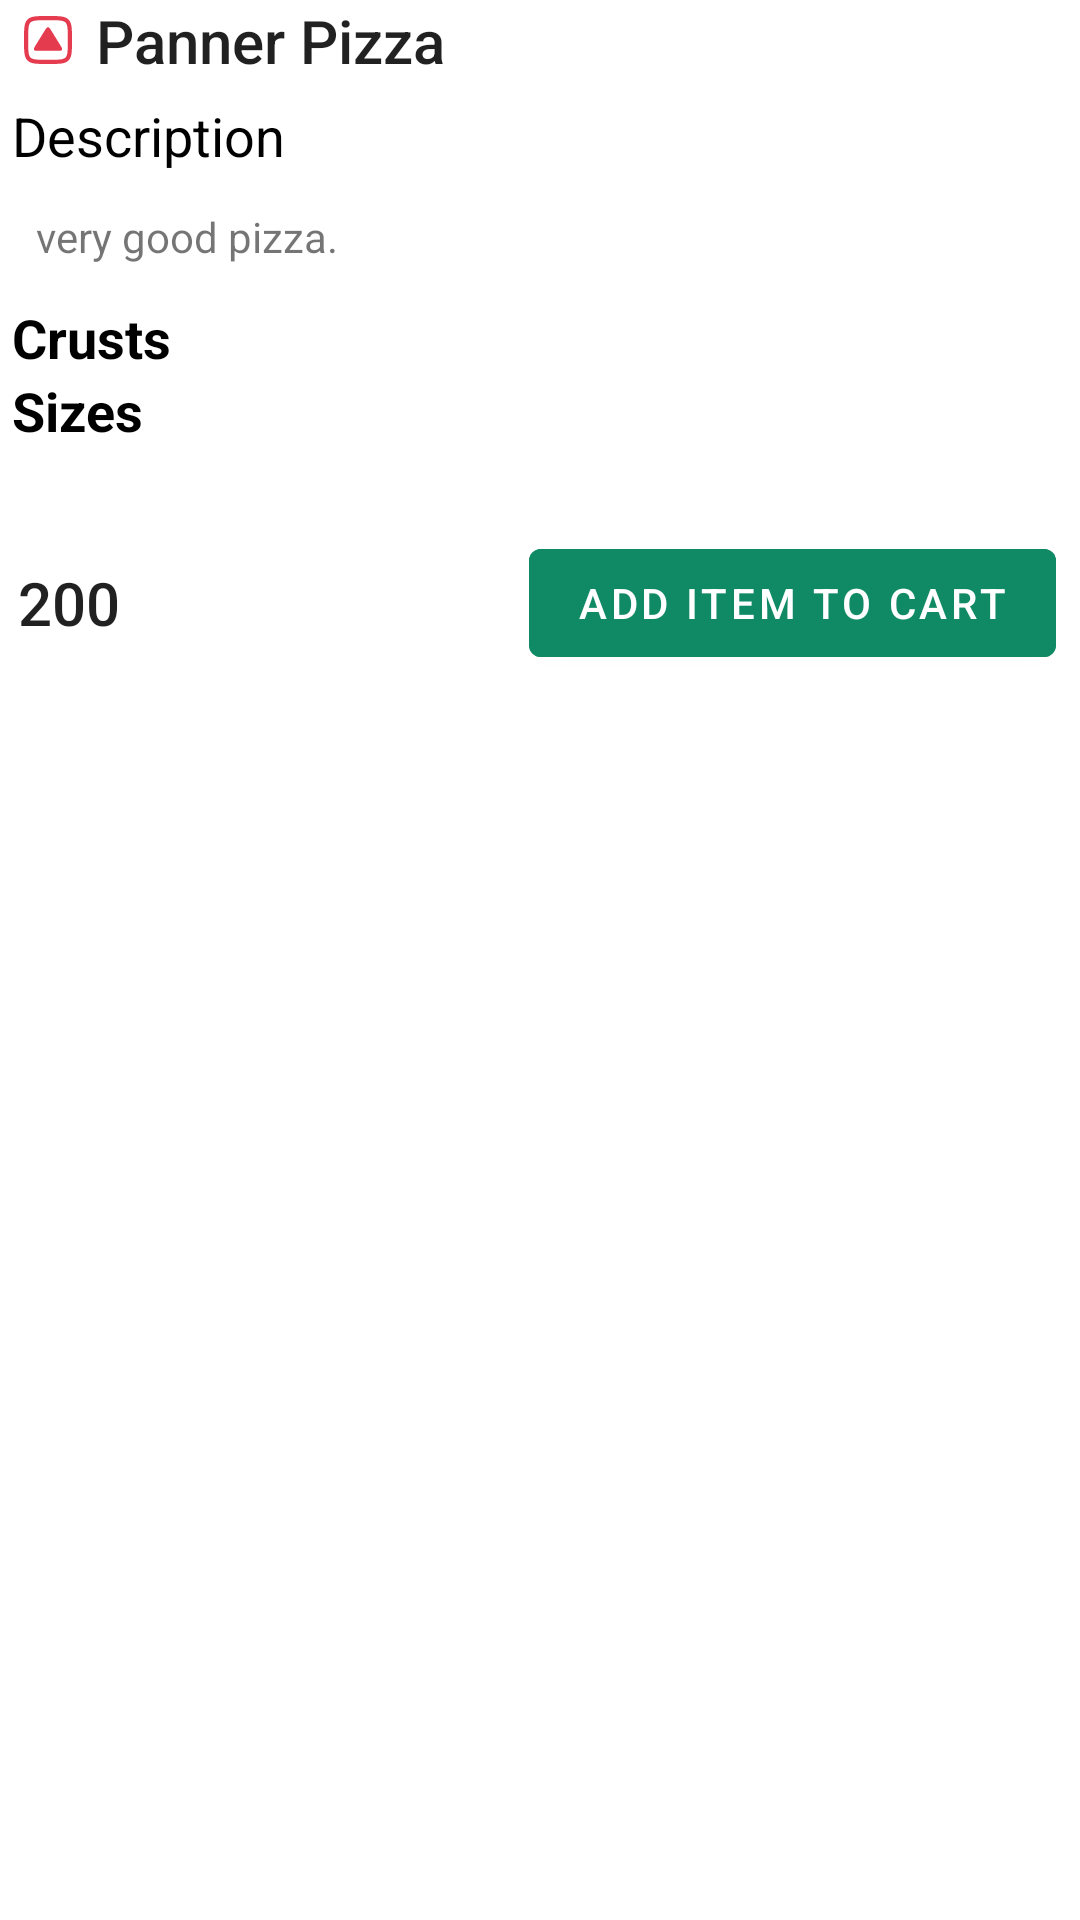

Where to tap for icons on this 1080×1920 app screen, as [x,y]:
non veg: [48,40]
